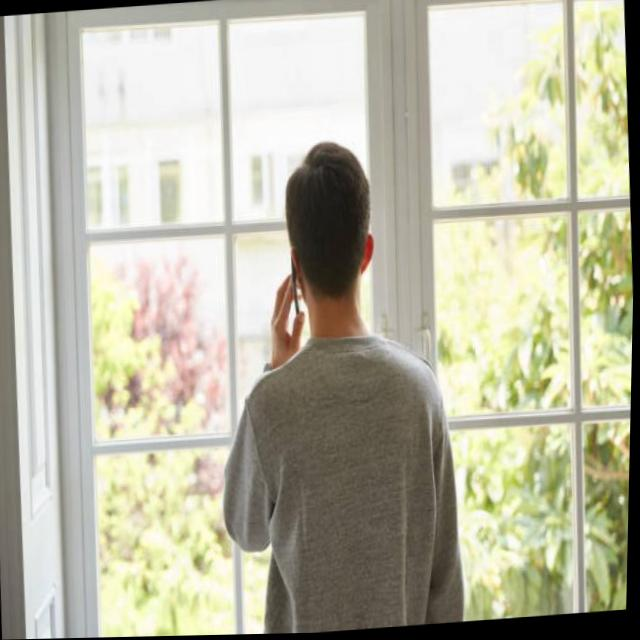no helmet: (254, 119, 405, 385)
